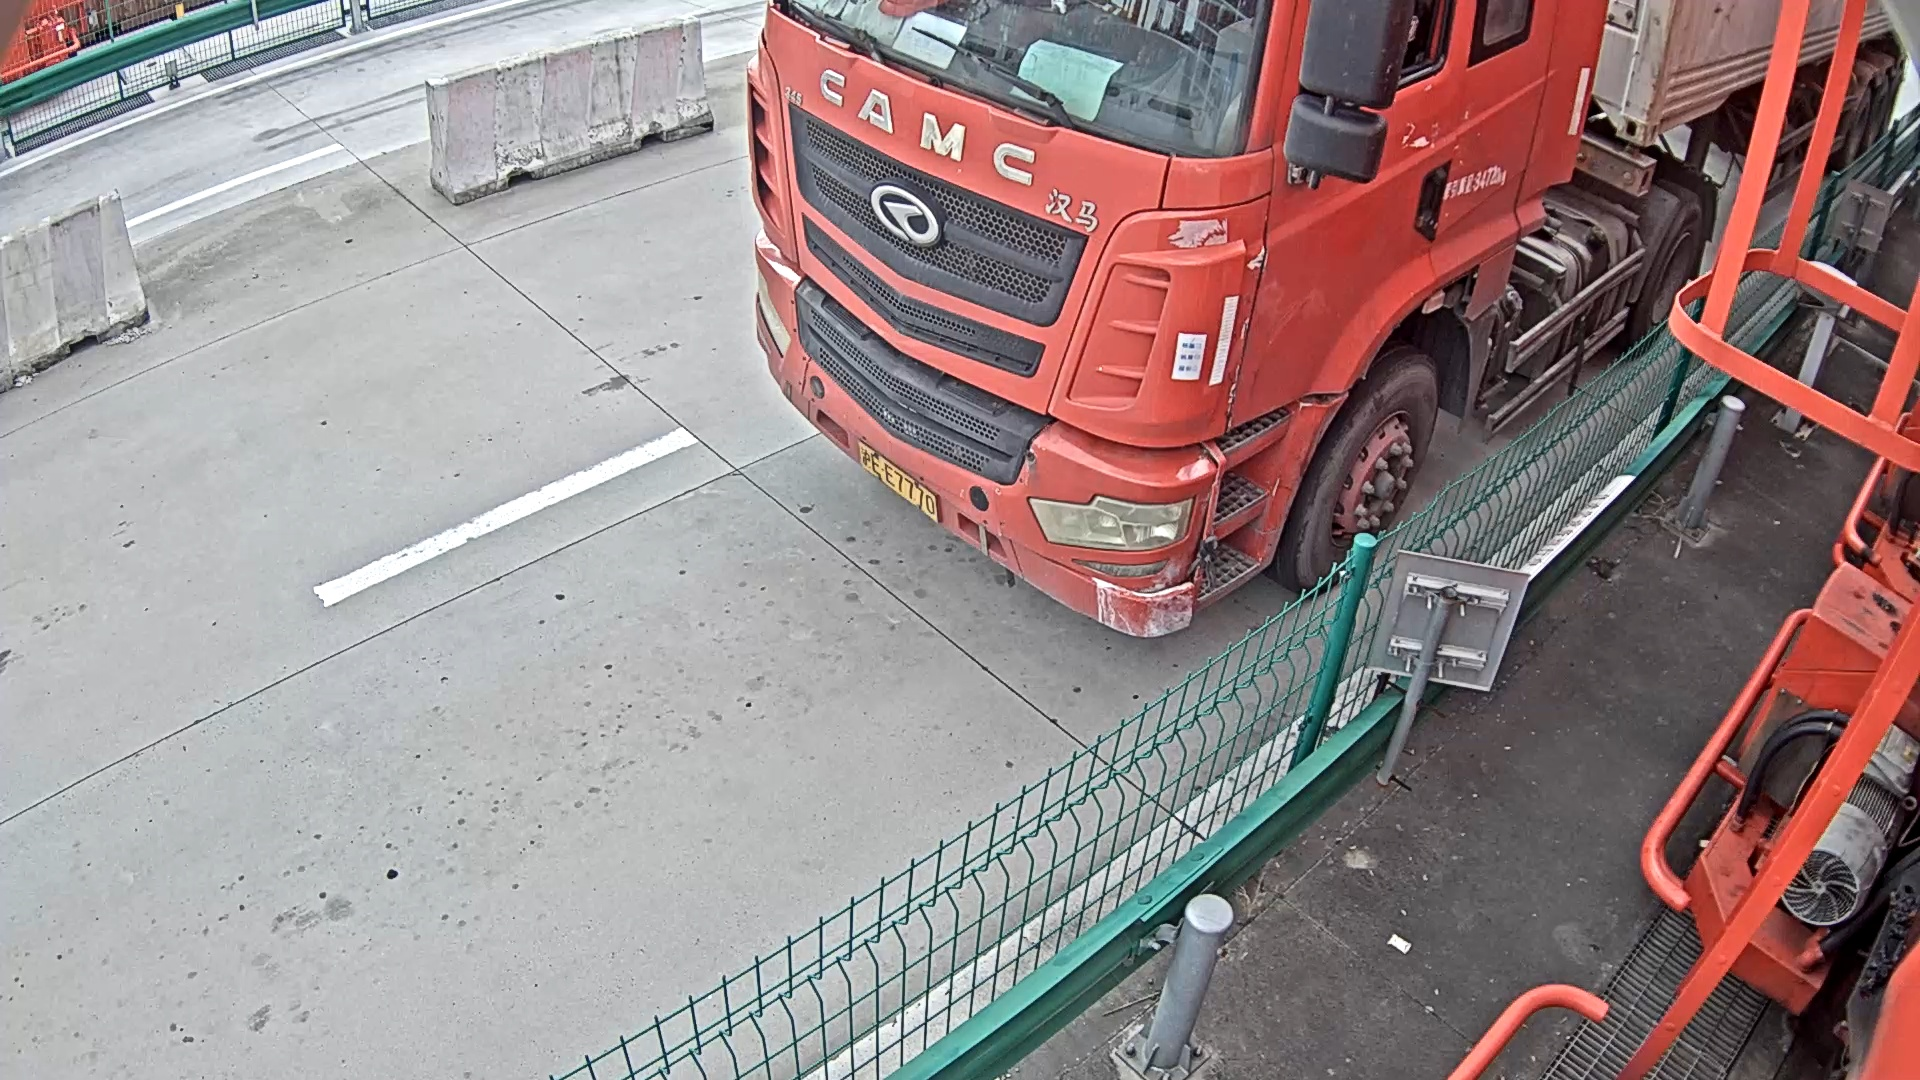head: (751, 1, 1602, 639)
plate: (857, 439, 939, 523)
